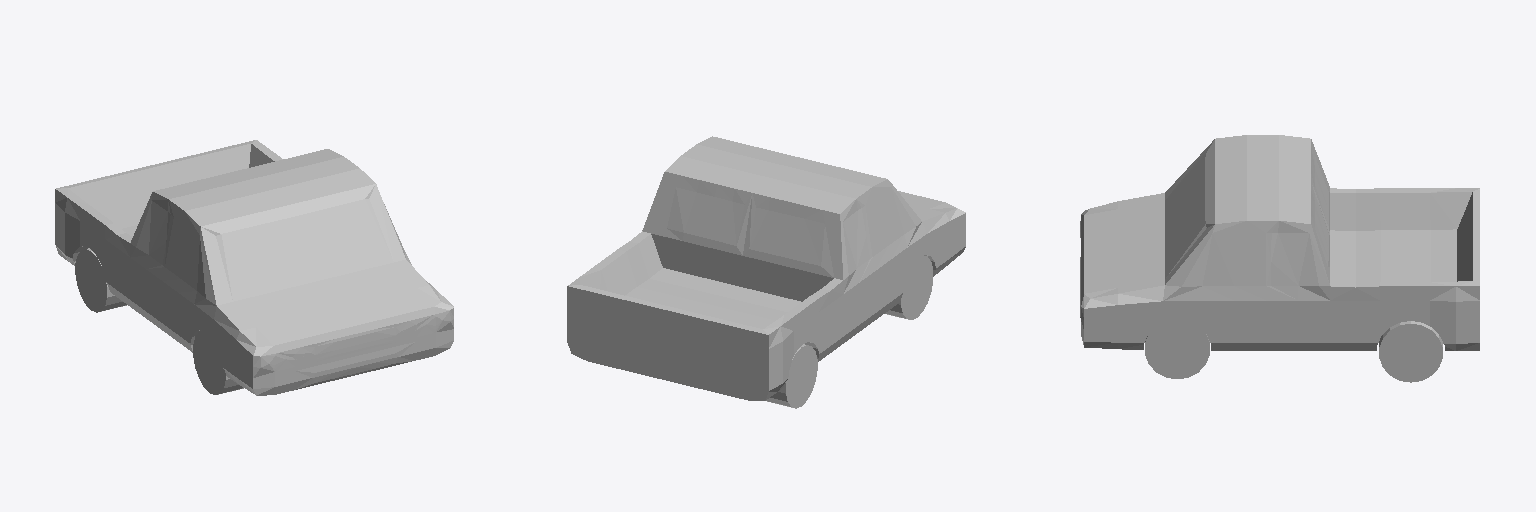
File: car2.obj
3 renders of one model, left to right at view 1: azimuth 30°, elevation 25°; view 2: azimuth 150°, elevation 25°; view 3: azimuth 270°, elevation 25°, orthographic.
Visible parts, largest first — view 1: group5 group4 group3 pCube3, pasted__pCylinder2 group5 group4 group3, group5 group4 group3 pasted__pCylinder1; view 2: group5 group4 group3 pCube3, pasted__pCylinder2 group5 group4 group3, group5 group4 group3 pasted__pCylinder1; view 3: group5 group4 group3 pCube3, pasted__pCylinder2 group5 group4 group3, group5 group4 group3 pasted__pCylinder1.
Part boxes in pixels (left/top/right/bottom): group5 group4 group3 pCube3: left=55, top=140, right=453, bottom=395; pasted__pCylinder2 group5 group4 group3: left=75, top=248, right=126, bottom=312; group5 group4 group3 pasted__pCylinder1: left=193, top=330, right=243, bottom=394; group5 group4 group3 pCube3: left=567, top=136, right=965, bottom=400; pasted__pCylinder2 group5 group4 group3: left=766, top=344, right=817, bottom=408; group5 group4 group3 pasted__pCylinder1: left=885, top=256, right=932, bottom=319; group5 group4 group3 pCube3: left=1080, top=135, right=1479, bottom=350; pasted__pCylinder2 group5 group4 group3: left=1379, top=321, right=1442, bottom=382; group5 group4 group3 pasted__pCylinder1: left=1145, top=319, right=1209, bottom=378.
Size of the model in its own units: 4.3 by 3.11 by 7.21.